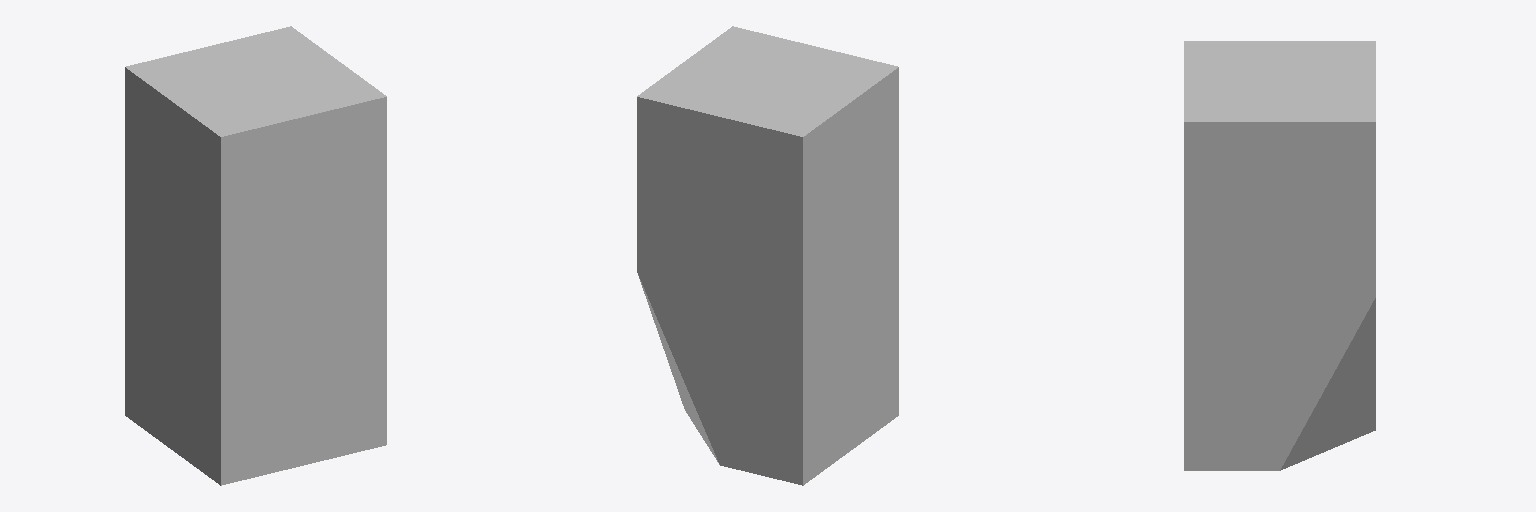
File: pillar-stone-eroded.obj
3 renders of one model, left to right at view 1: azimuth 30°, elevation 25°; view 2: azimuth 150°, elevation 25°; view 3: azimuth 270°, elevation 25°, orthographic.
Parts seen in each view (by area): view 1: Cube.013; view 2: Cube.013; view 3: Cube.013.
Part boxes in pixels (left/top/right/bottom): Cube.013: left=125, top=26, right=386, bottom=485; Cube.013: left=637, top=26, right=898, bottom=485; Cube.013: left=1184, top=41, right=1375, bottom=470.
Size of the model in its own units: 64 by 128 by 64.